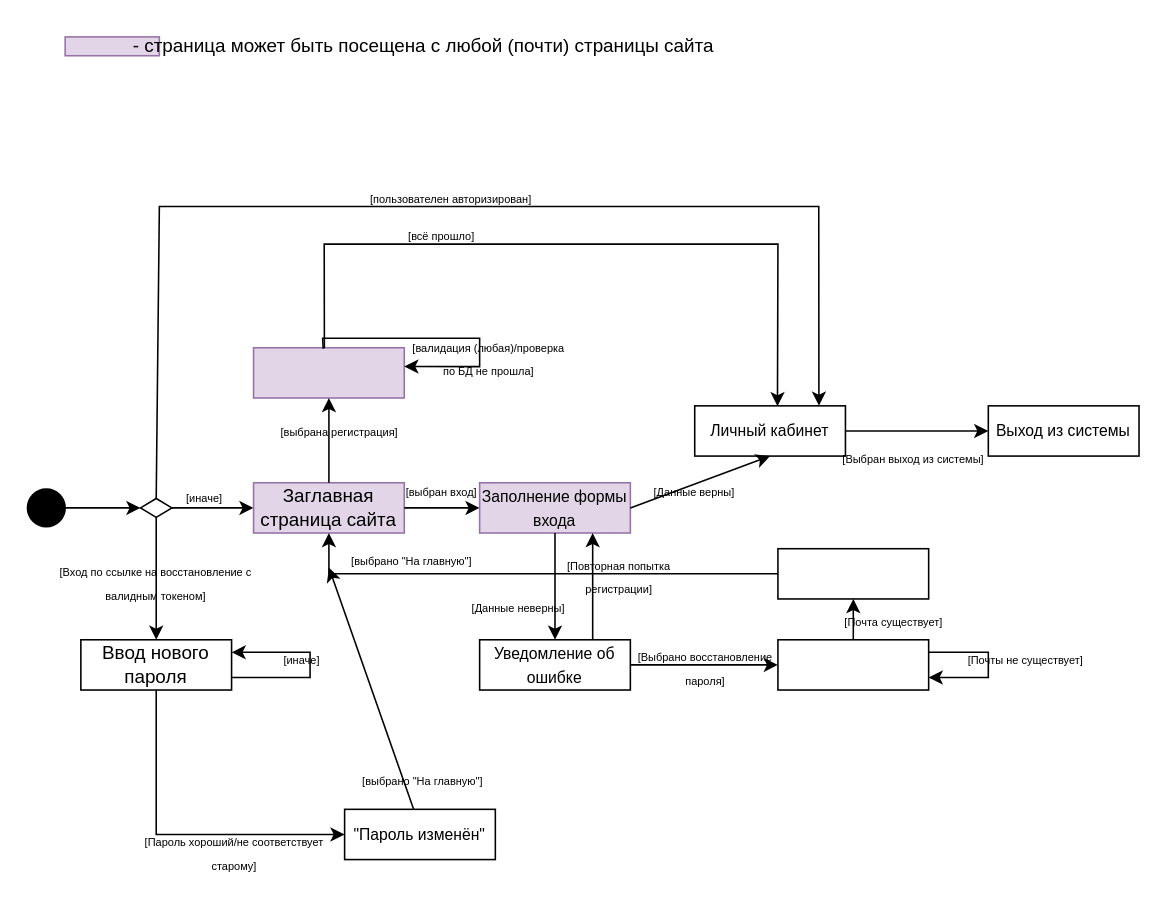
Some shapes in this 1167 by 901 pixel diagram are drawn without their labels. Here are the shapes that lost their labels. From the top down, the centre of each, then its label:
point 328,372: Заполнение формы регистрации
point 852,573: "Проверьте email"
point 852,664: Ввод email-а
